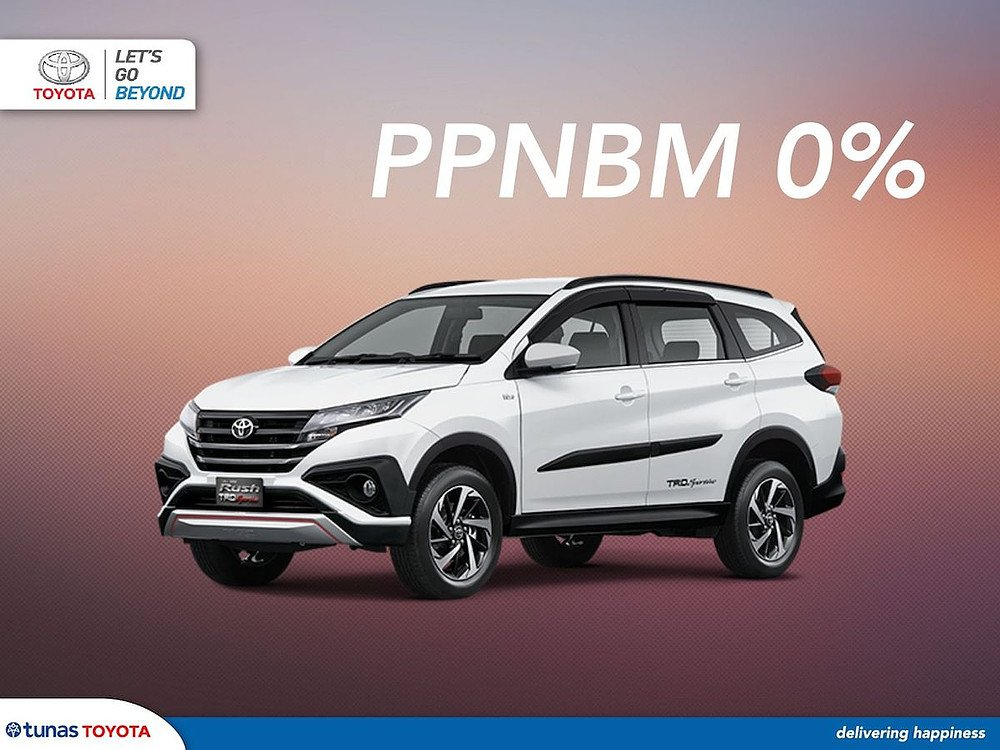mobil: (105, 270, 907, 649)
